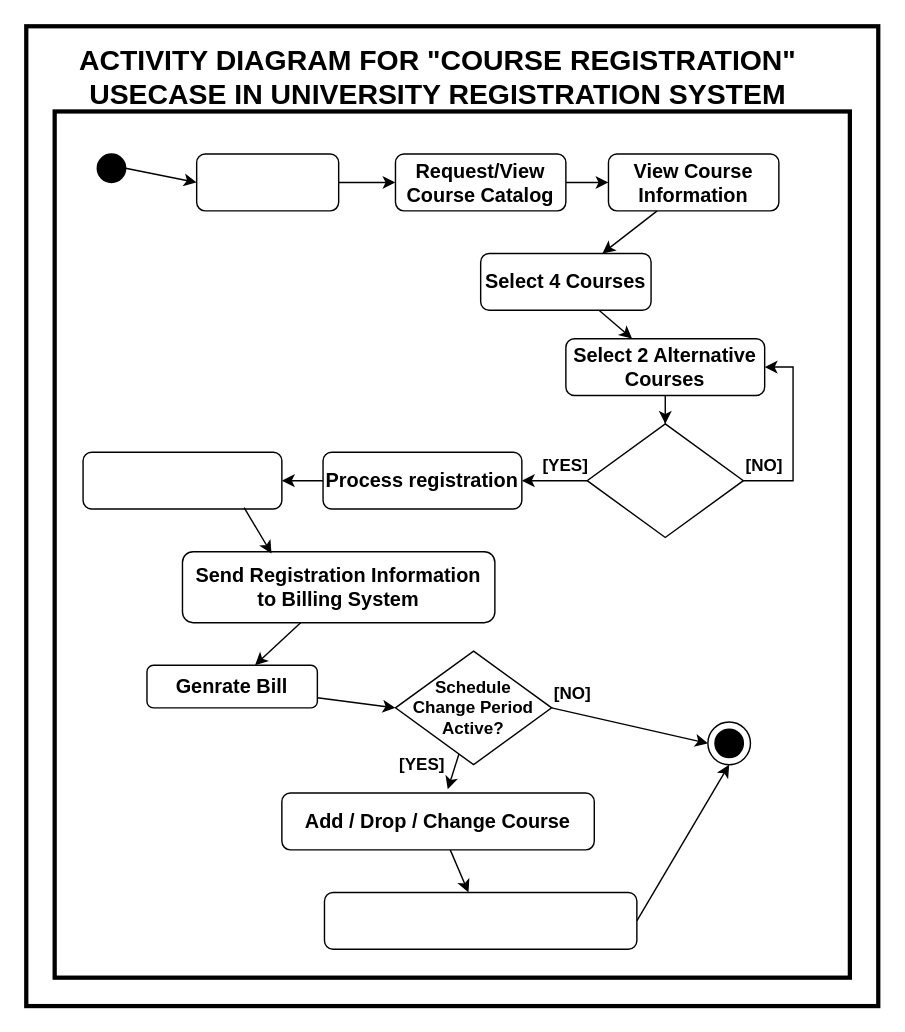
The diagram is 905 pixels wide and 1032 high, and some of its shapes have lost their labels. The box of each missing label's shape, as (x1, y1, x2, y2) in pixels:
Check Course Availability: (586, 422, 743, 537)
Student Login: (195, 153, 339, 211)
Update Course Enrollment: (82, 451, 282, 509)
Update registration and Student schedule: (323, 891, 637, 949)
